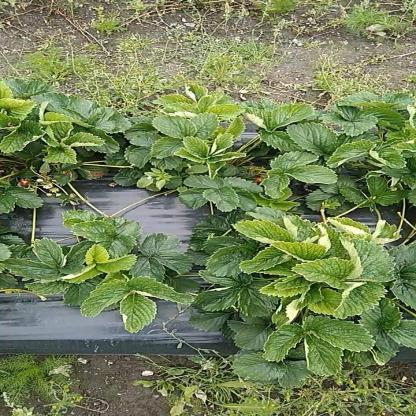ripe: (249, 175, 268, 185), (18, 179, 30, 187)
